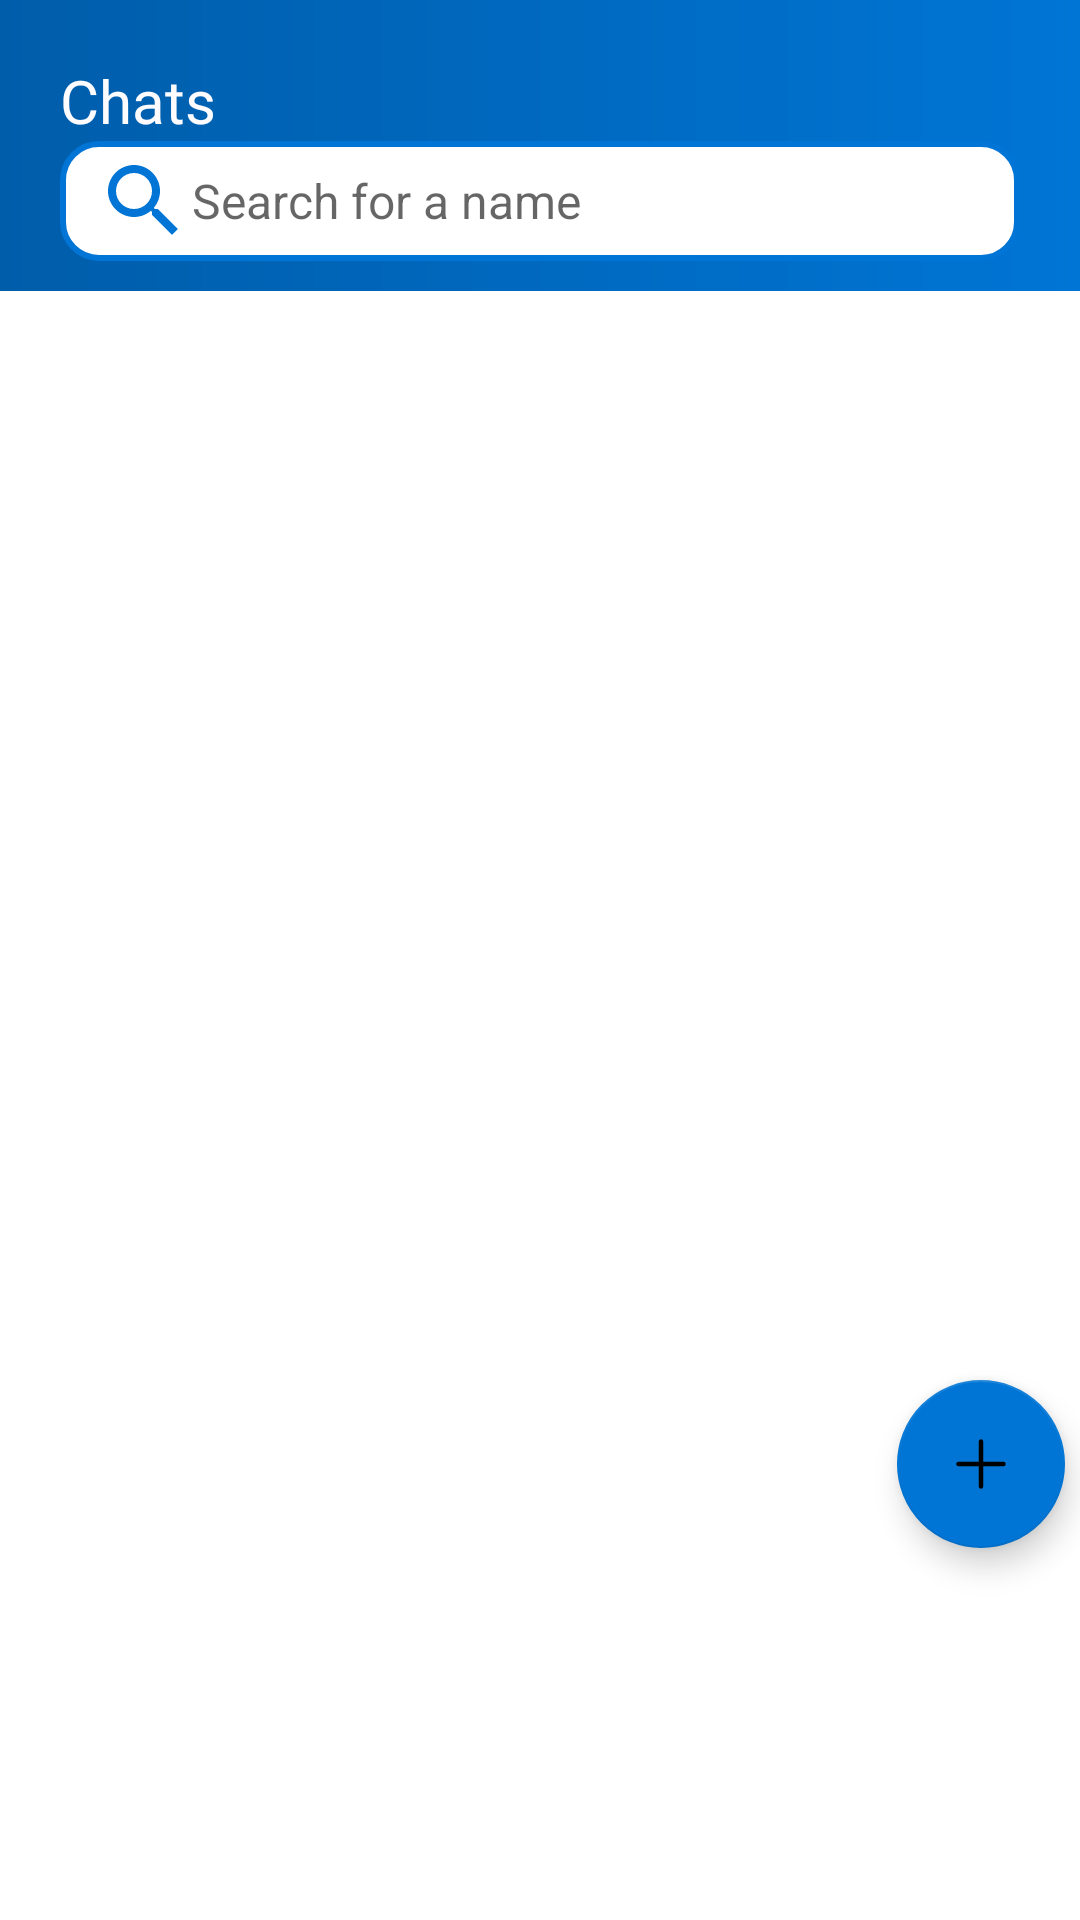

Point at icon controls on the screen. Image size 1080w x 1920h, points as (x,y).
Create chat: (981,1464)
